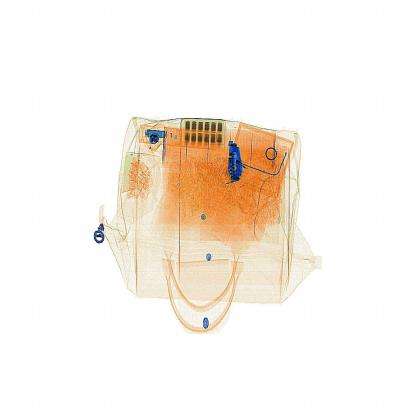scissors: (224, 136, 254, 181)
